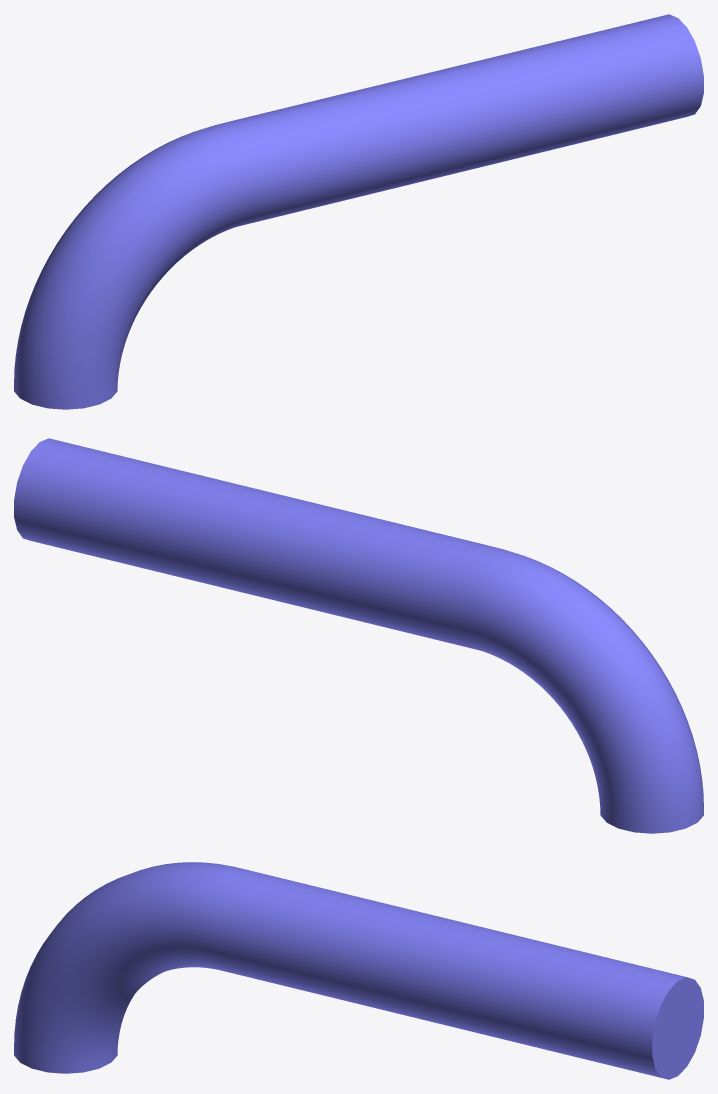
3 views of the same model, one above another, from view 1: azimuth 30°, elevation 25°; view 2: azimuth 150°, elevation 25°; view 3: azimuth 330°, elevation 25° (orthographic).
Visible parts, largest first — view 1: Cylinder001; view 2: Cylinder001; view 3: Cylinder001.
Boxes of the visible parts, box(x1,y1,x2,y2) form: Cylinder001: box(14, 14, 703, 409); Cylinder001: box(14, 438, 703, 833); Cylinder001: box(14, 862, 703, 1079).
Bounding box in the file's own units: 4.34 × 1.39 × 0.5909.
